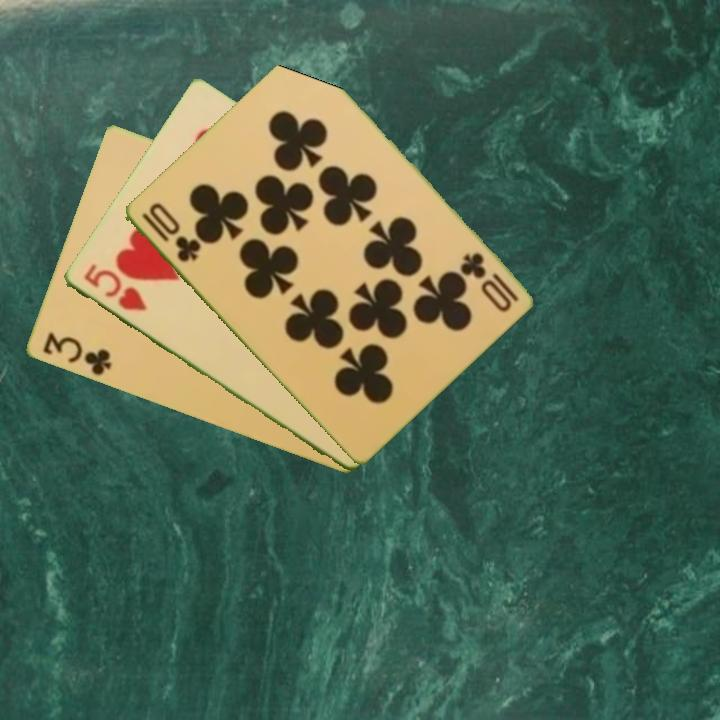10c: (137, 199, 204, 266), (457, 248, 521, 315)
3c: (39, 328, 114, 379)
5h: (80, 260, 150, 314)
